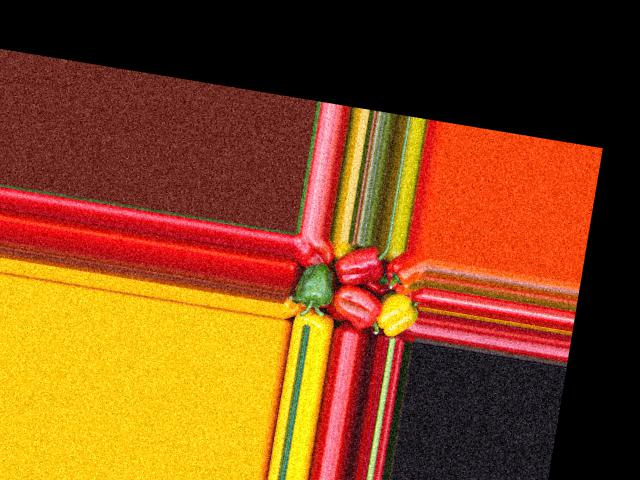bell_pepper: (372, 287, 421, 342)
